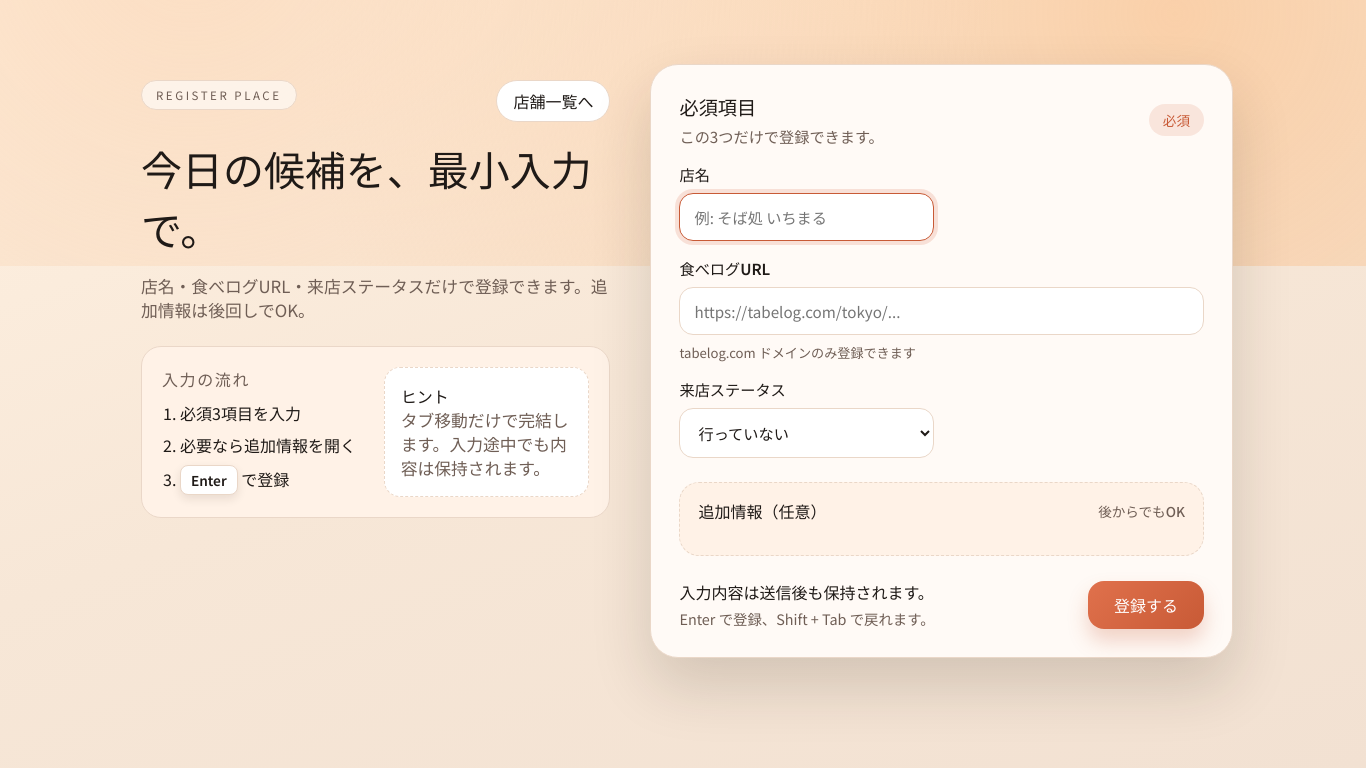
it: App › 必須項目の未入力を検知してエラーを表示する
Click the button "登録する": (1146, 604) [1088,580,1204,628]
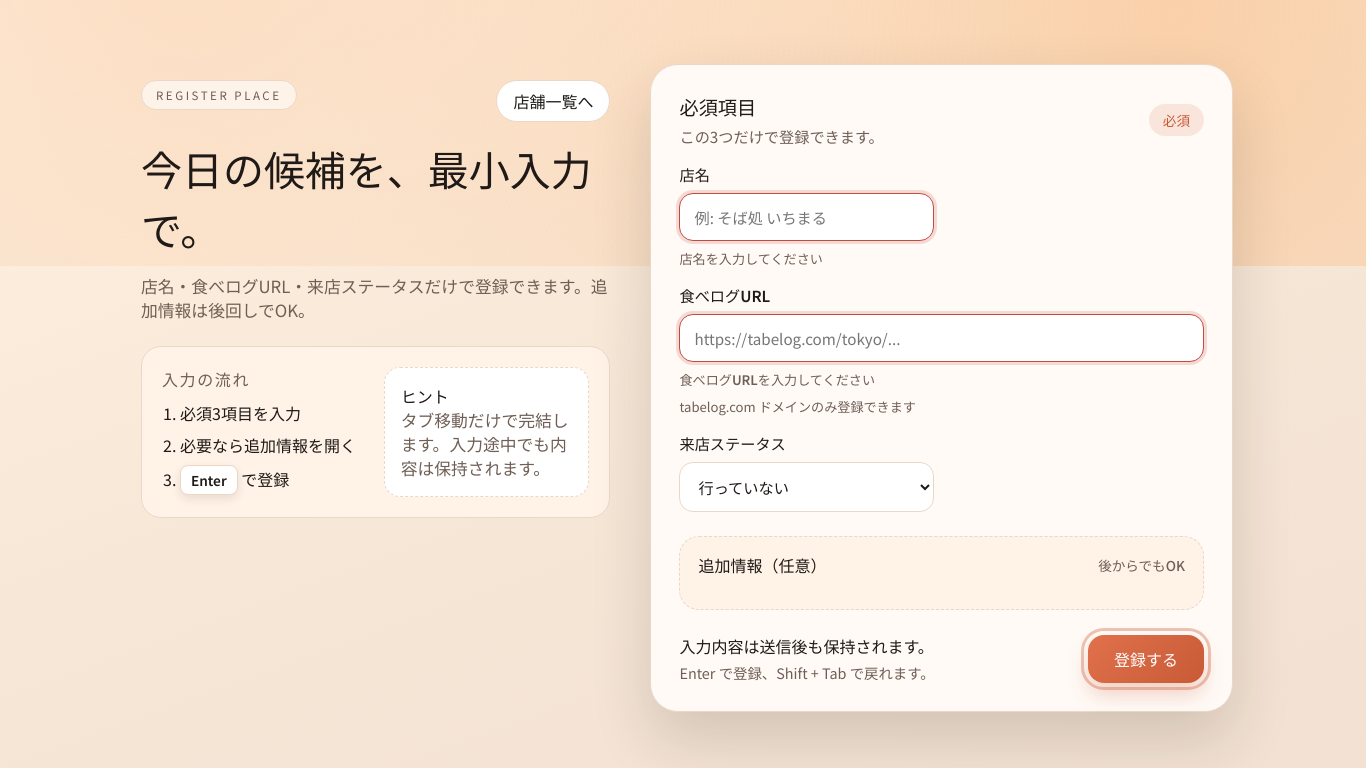
Now the text "店名を入力してください" is shown, box [680,249,823,268]
Now the text "食べログURLを入力してください" is shown, box [680,370,875,389]
